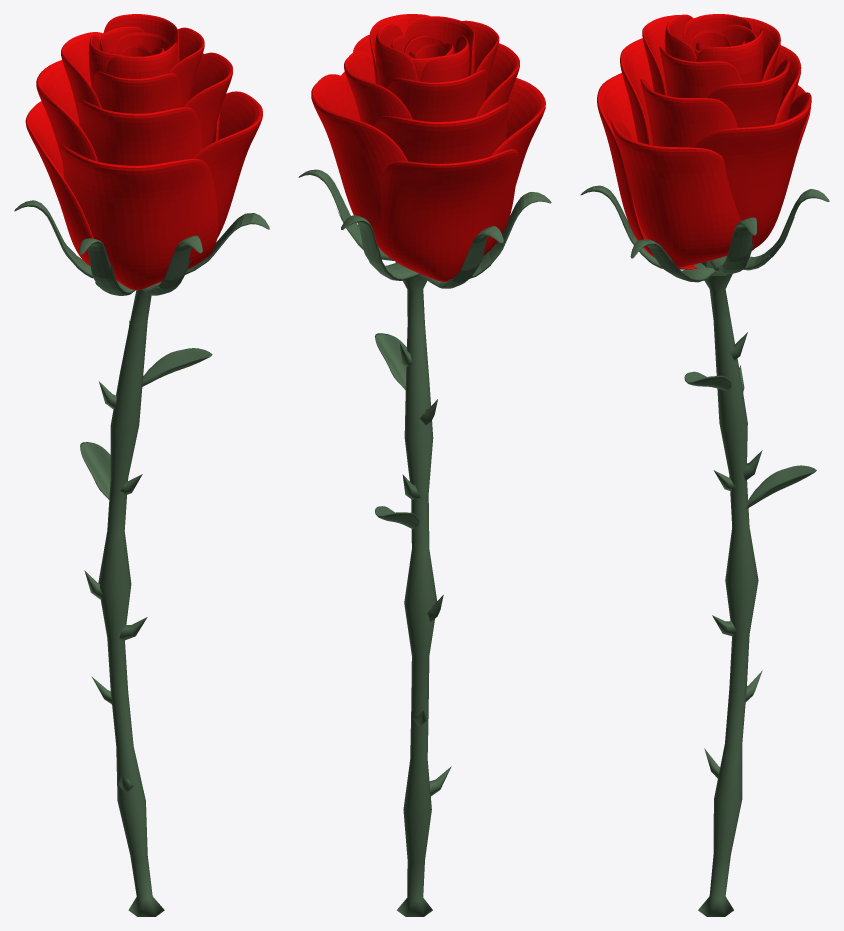
The model's file is Mesh_Rose_1.fbx.
3 views of the same model, side by side, from view 1: azimuth 30°, elevation 25°; view 2: azimuth 150°, elevation 25°; view 3: azimuth 270°, elevation 25° (orthographic).
Parts seen in each view (by area): view 1: Rose; view 2: Rose; view 3: Rose.
Part boxes in pixels (box(x1,y1,x2,y2)): Rose: box(14, 14, 269, 916); Rose: box(298, 14, 551, 916); Rose: box(580, 14, 829, 916).
Size of the model in its own units: 38.37 by 156 by 40.03.
